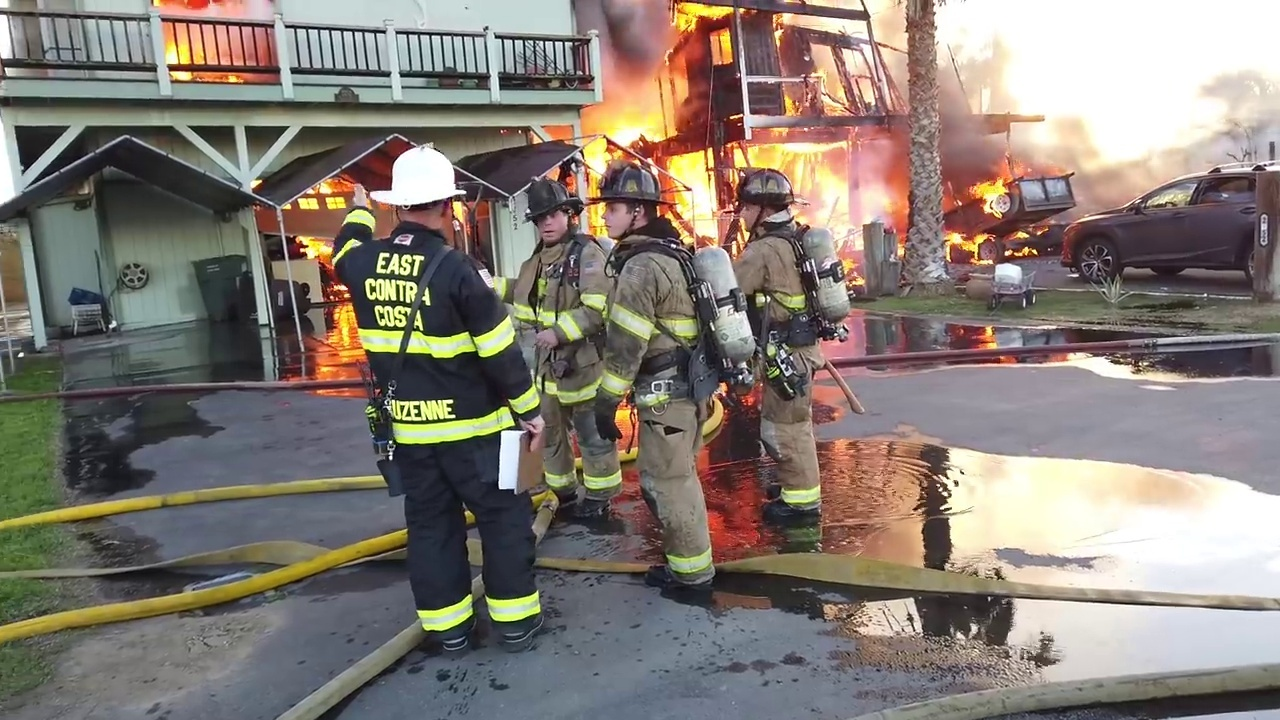fire: (944, 161, 1025, 258), (670, 142, 719, 233), (790, 169, 864, 228), (742, 132, 852, 169), (594, 98, 650, 162), (158, 31, 209, 82), (878, 179, 915, 238), (278, 186, 348, 217), (670, 1, 735, 32), (295, 233, 337, 260), (705, 30, 732, 66), (772, 8, 787, 46), (450, 198, 473, 222)
smoke: (1043, 80, 1216, 160), (936, 54, 1043, 160), (574, 1, 675, 87), (212, 5, 280, 83), (1073, 167, 1122, 211)
